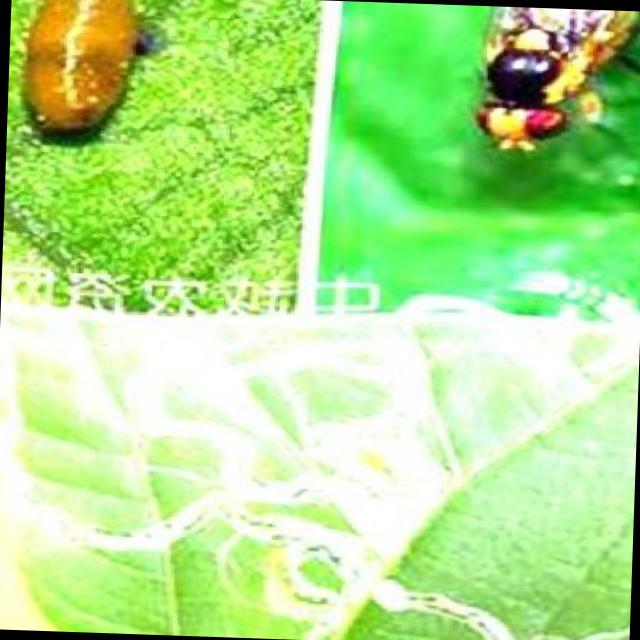whorl-maggot: (10, 0, 158, 148)
